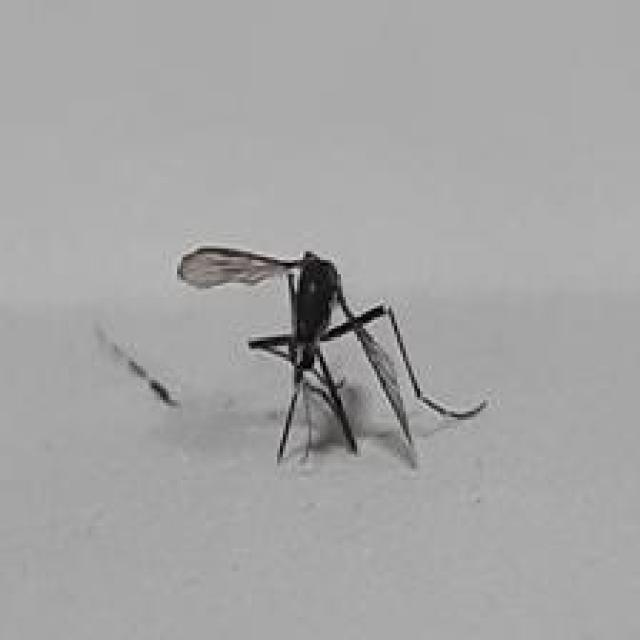Aedes albopictus: (174, 244, 489, 470)
